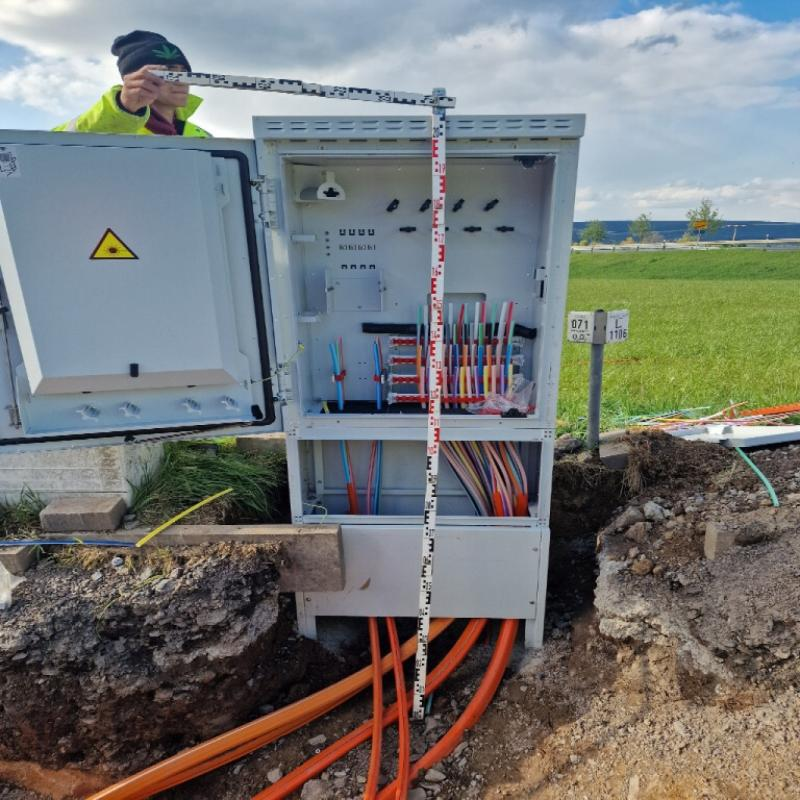NT-Gehause: (0, 117, 593, 623)
